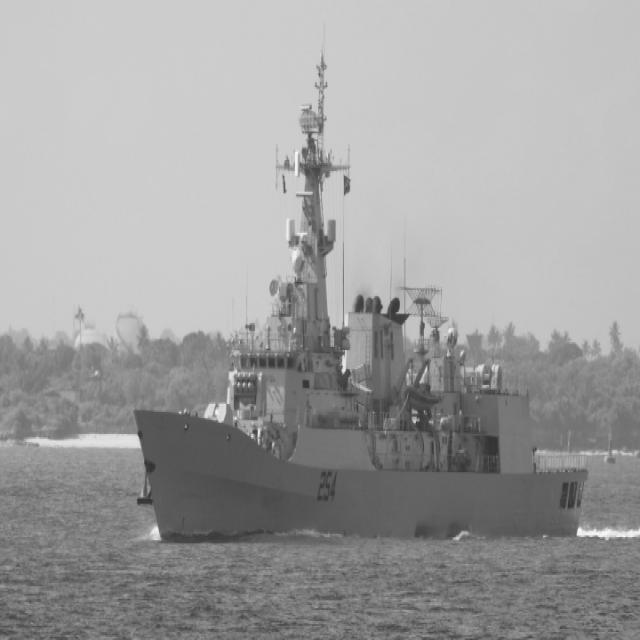Fragata: (132, 18, 594, 557)
